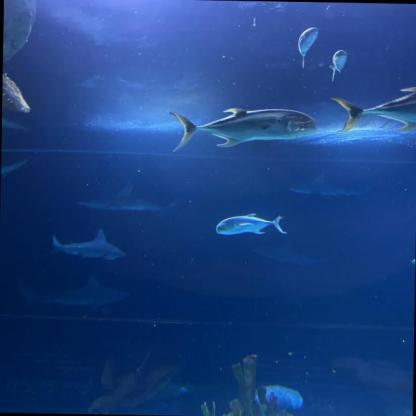fish: (168, 107, 315, 154), (328, 84, 416, 134), (216, 212, 286, 236), (298, 27, 318, 68), (330, 50, 347, 80)
shark: (16, 272, 128, 310), (78, 183, 177, 217), (49, 226, 125, 261), (290, 173, 370, 199), (253, 244, 336, 266)
